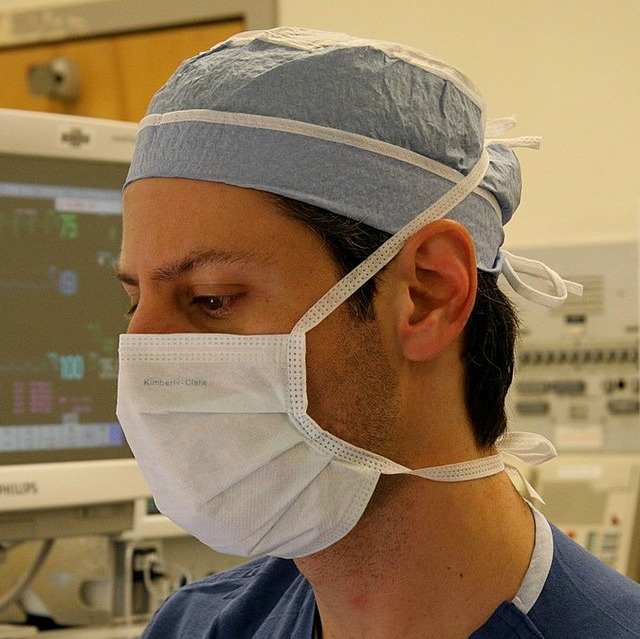mask: (91, 339, 378, 559)
